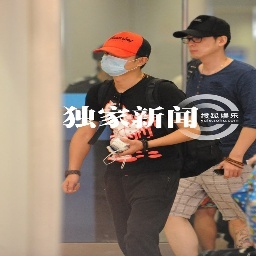correctlyWear: (99, 50, 147, 77)
noWear: (180, 33, 228, 59)
